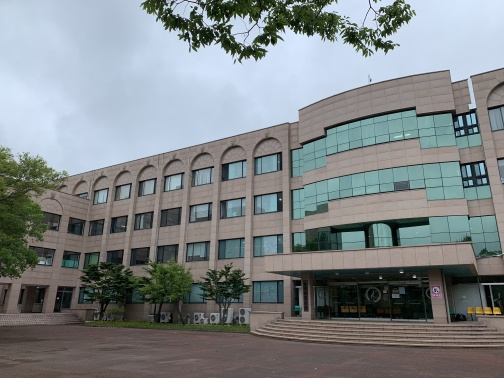Natural Science2: (86, 72, 503, 341)
